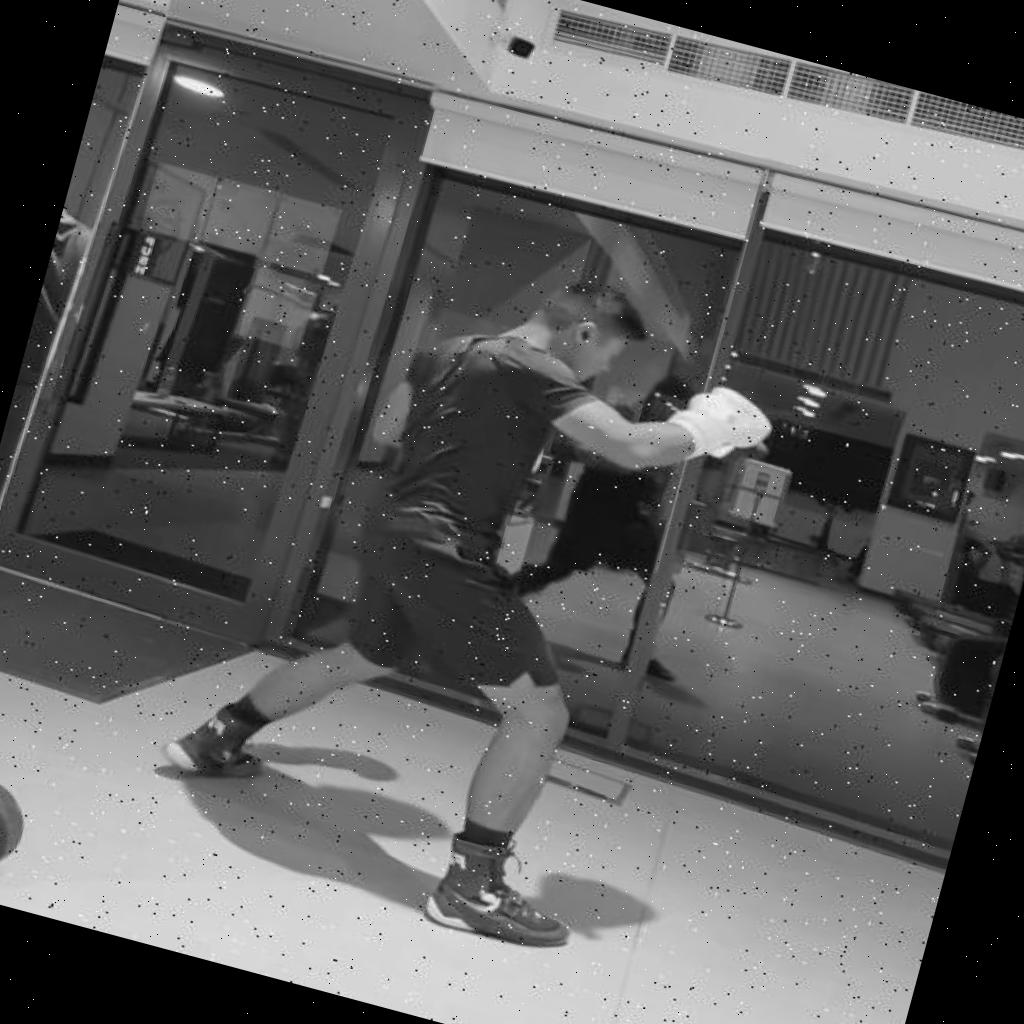jab: (126, 202, 797, 985)
